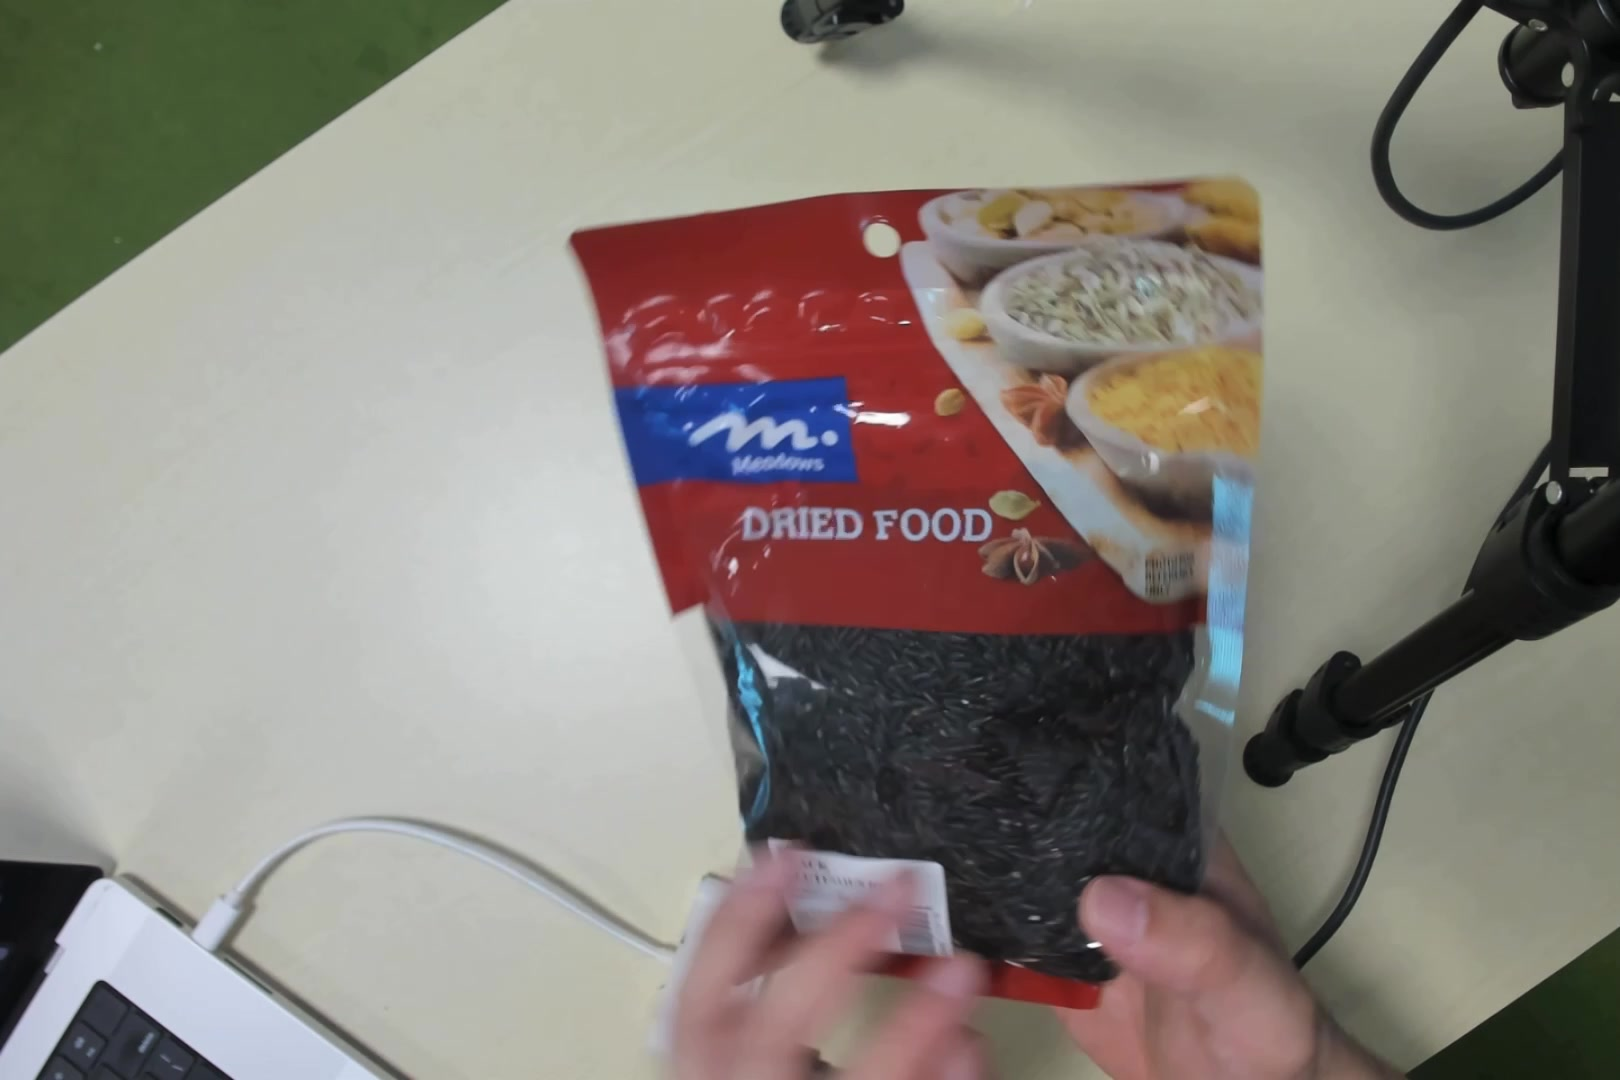OtherDriedFood_100-199g_NonHalal_NonHealthy: (629, 206, 1252, 978)
